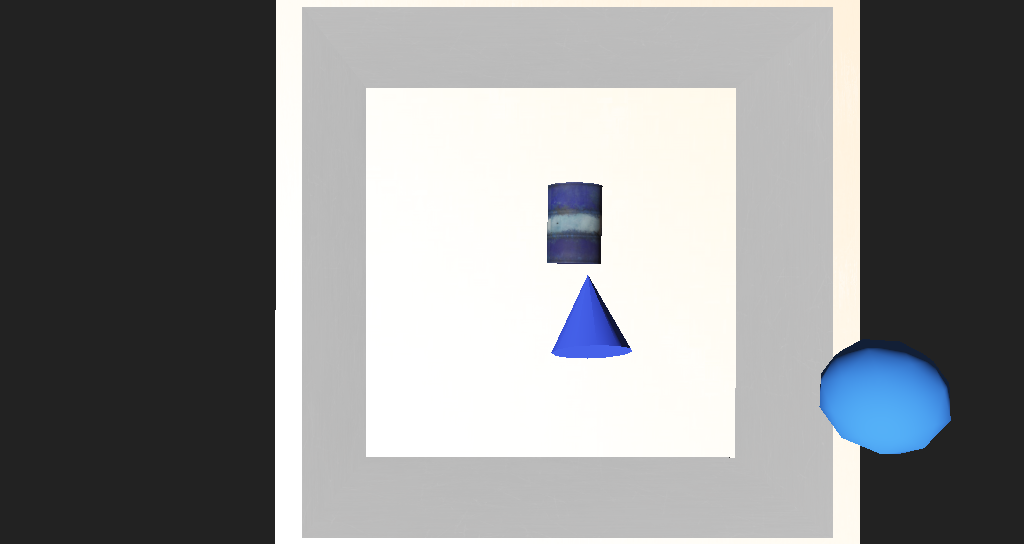cone: (502, 215, 549, 262)
cylinder: (509, 262, 569, 320)
sphere: (694, 303, 775, 365)
